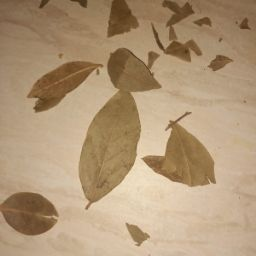Bay leaves: (11, 3, 233, 254), (81, 87, 147, 217), (145, 110, 225, 202), (10, 57, 109, 113), (146, 19, 237, 78), (102, 45, 167, 100), (2, 188, 66, 241), (196, 8, 253, 41), (113, 213, 163, 249), (97, 2, 143, 41), (161, 1, 216, 33), (34, 1, 94, 16)
